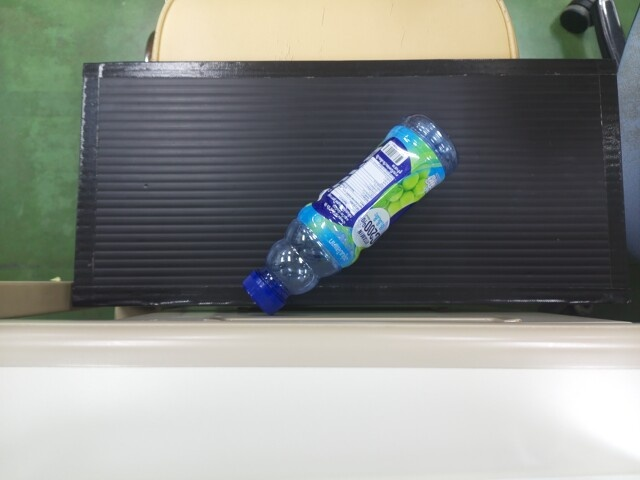plastic_bottle: (250, 110, 451, 308)
